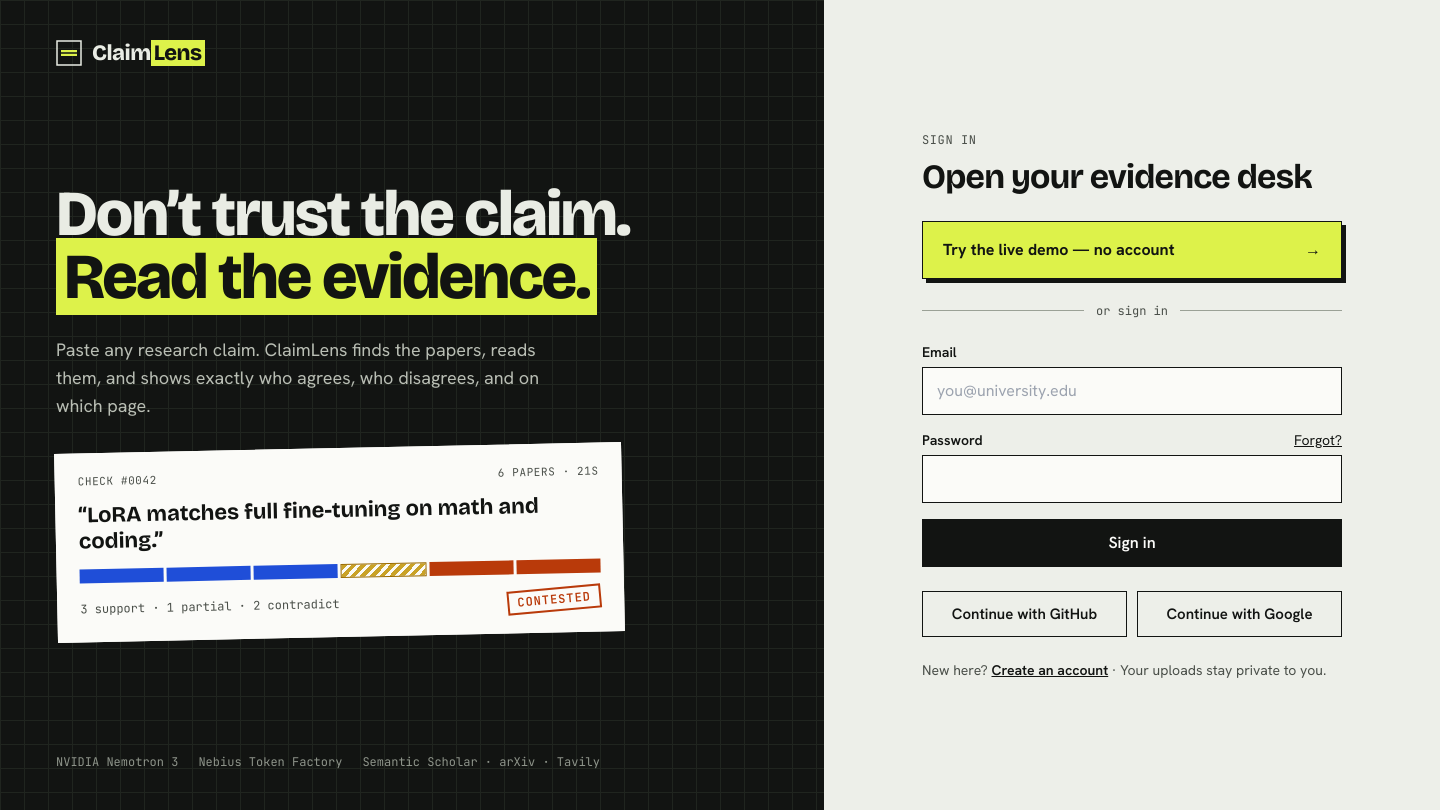
Scenario: app routes › answers the sign-in stub inline, not with an alert
Click the button "Sign in" at (1132, 542), box [922,518,1342,566]
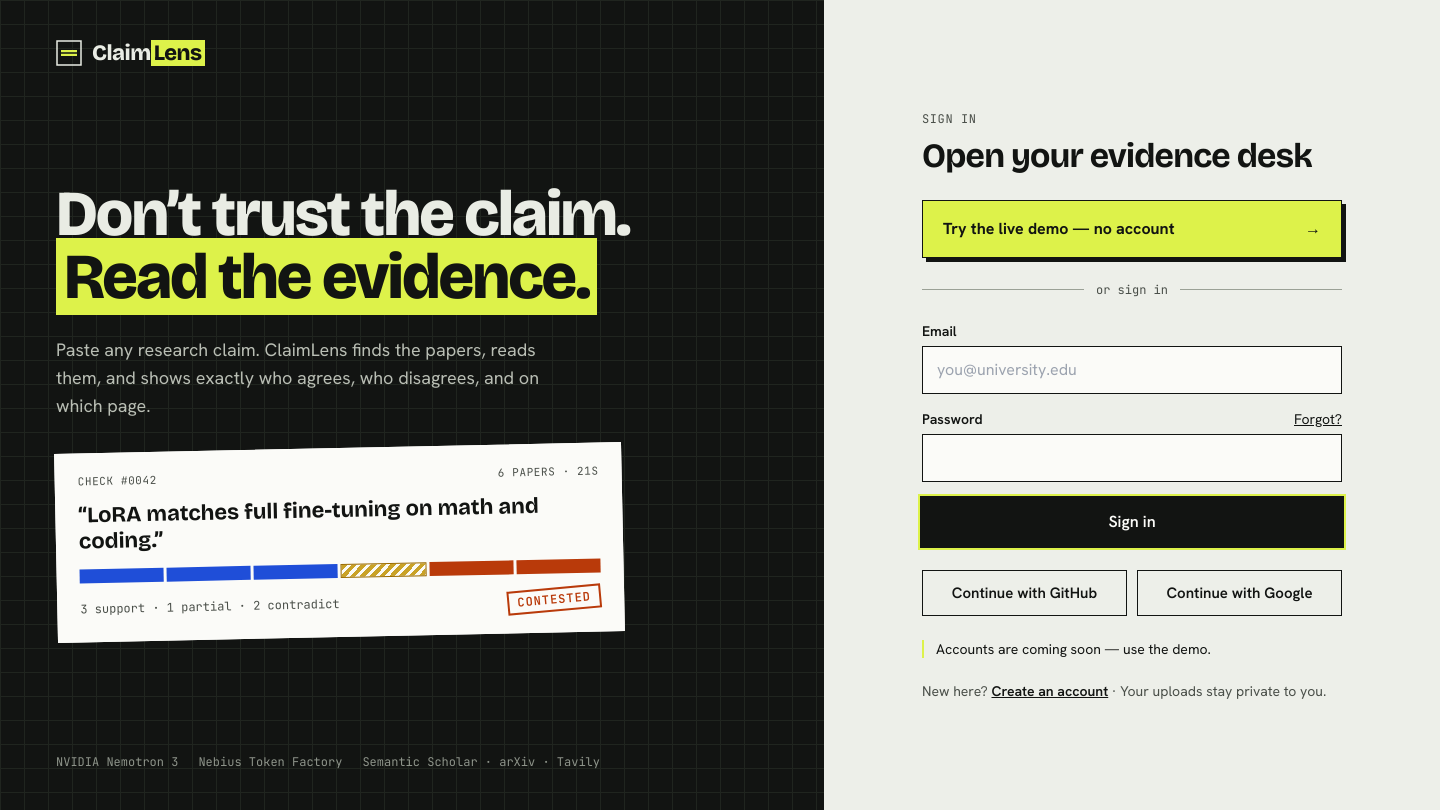
Check: the message reads "Accounts are coming soon — use the demo.", box [936,640,1211,658]
